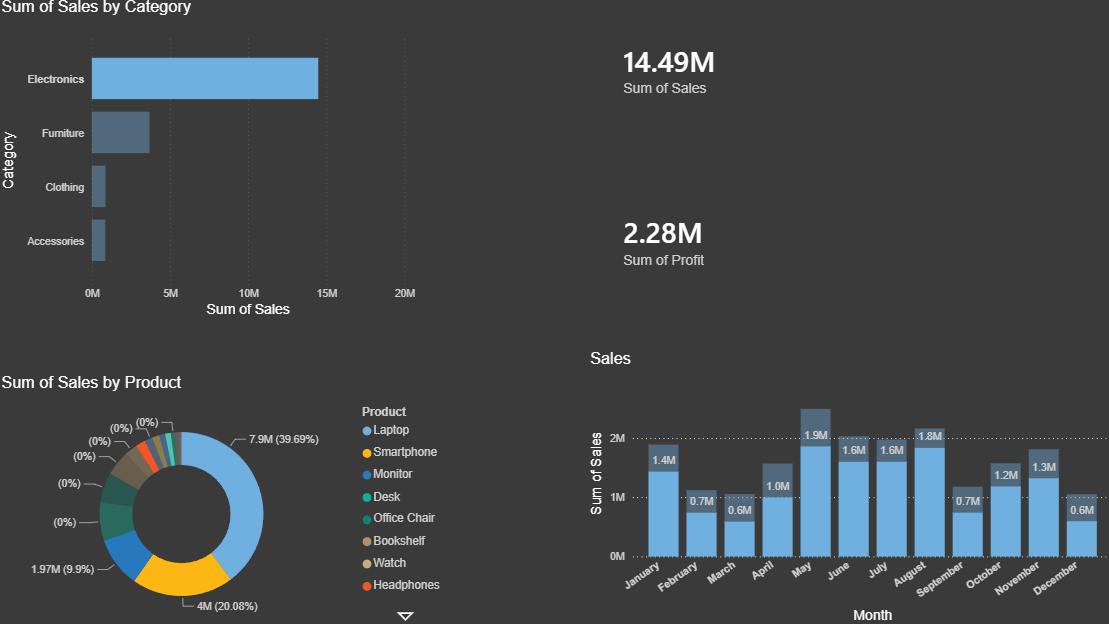

The dashboard page shown, as its layout file describes it:
{"tool":"powerbi","page":{"name":"Page 1","canvas":[1280,720],"ordinal":0},"visuals":[{"type":"clusteredColumnChart","title":"Sales ","fields":{"Y":["Sum(Sheet1.Sales)"],"Category":["Sheet1.Order Date.Variation.Date Hierarchy.Month"]},"box":[672.9,402.9,607.1,317.1],"z":0},{"type":"donutChart","fields":{"Category":["Sheet1.Product"],"Y":["Sum(Sheet1.Sales)"]},"box":[0,430,520,290],"z":1000},{"type":"clusteredBarChart","fields":{"Category":["Sheet1.Category"],"Y":["Sum(Sheet1.Sales)"]},"box":[0,0,482.9,370],"z":2000},{"type":"cardVisual","fields":{"Data":["Sum(Sheet1.Sales)"]},"box":[685.7,15.7,261.4,132.9],"z":3000},{"type":"cardVisual","fields":{"Data":["Sum(Sheet1.Profit)"]},"box":[685.7,185.7,261.4,184.3],"z":3001}]}

Visuals, with their boxes in screenshot pixels (x1, y1, x2, y2), scaled from the page's 1280x720 canvas onto the 1109x624 screenshot:
"Sales " clusteredColumnChart: {"x1": 583, "y1": 349, "x2": 1108, "y2": 623}
donutChart - Sheet1.Product x Sum(Sheet1.Sales): {"x1": 0, "y1": 373, "x2": 451, "y2": 623}
clusteredBarChart - Sheet1.Category x Sum(Sheet1.Sales): {"x1": 0, "y1": 0, "x2": 418, "y2": 321}
cardVisual - Sum(Sheet1.Sales): {"x1": 594, "y1": 14, "x2": 821, "y2": 129}
cardVisual - Sum(Sheet1.Profit): {"x1": 594, "y1": 161, "x2": 821, "y2": 321}
